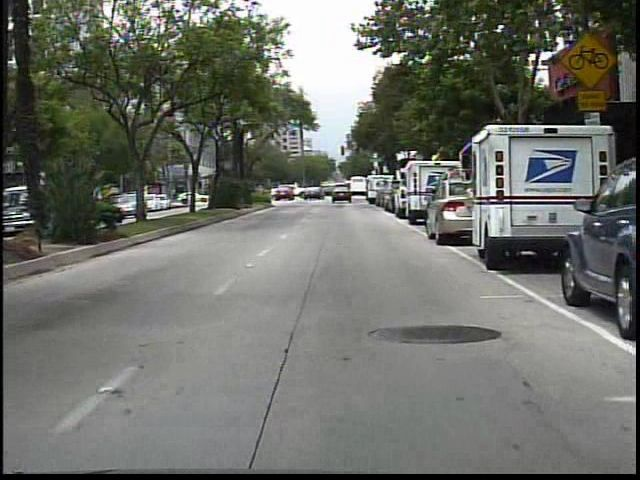person: (340, 183, 353, 203)
